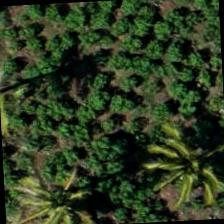Kelapa_Sawit: (145, 113, 223, 209), (13, 169, 108, 223)
